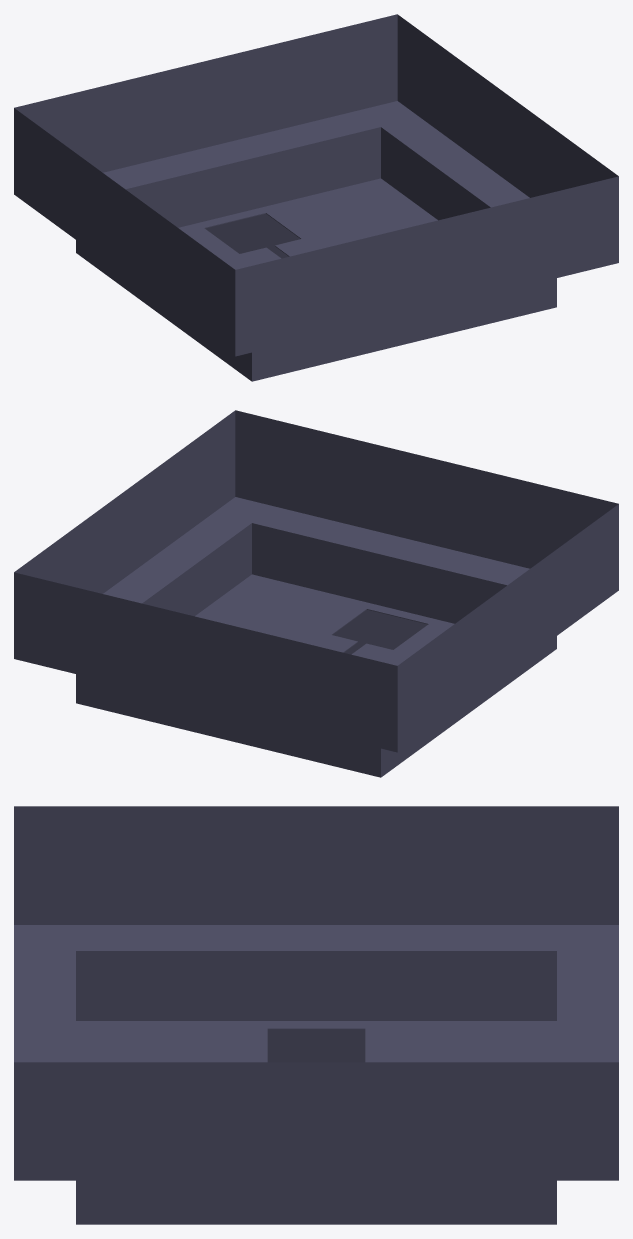
The model's file is GroundNewLobby.fbx.
3 views of the same model, one above another, from view 1: azimuth 30°, elevation 25°; view 2: azimuth 150°, elevation 25°; view 3: azimuth 270°, elevation 25° (orthographic). The views are drawn at different scales.
Visible parts, largest first — view 1: GroundNewLobby; view 2: GroundNewLobby; view 3: GroundNewLobby.
Boxes of the visible parts, x1,y1,x2,y2 form: GroundNewLobby: (14,14,618,381); GroundNewLobby: (14,410,618,777); GroundNewLobby: (14,806,618,1224).
Bounding box in the file's own units: 378 × 131 × 378.
